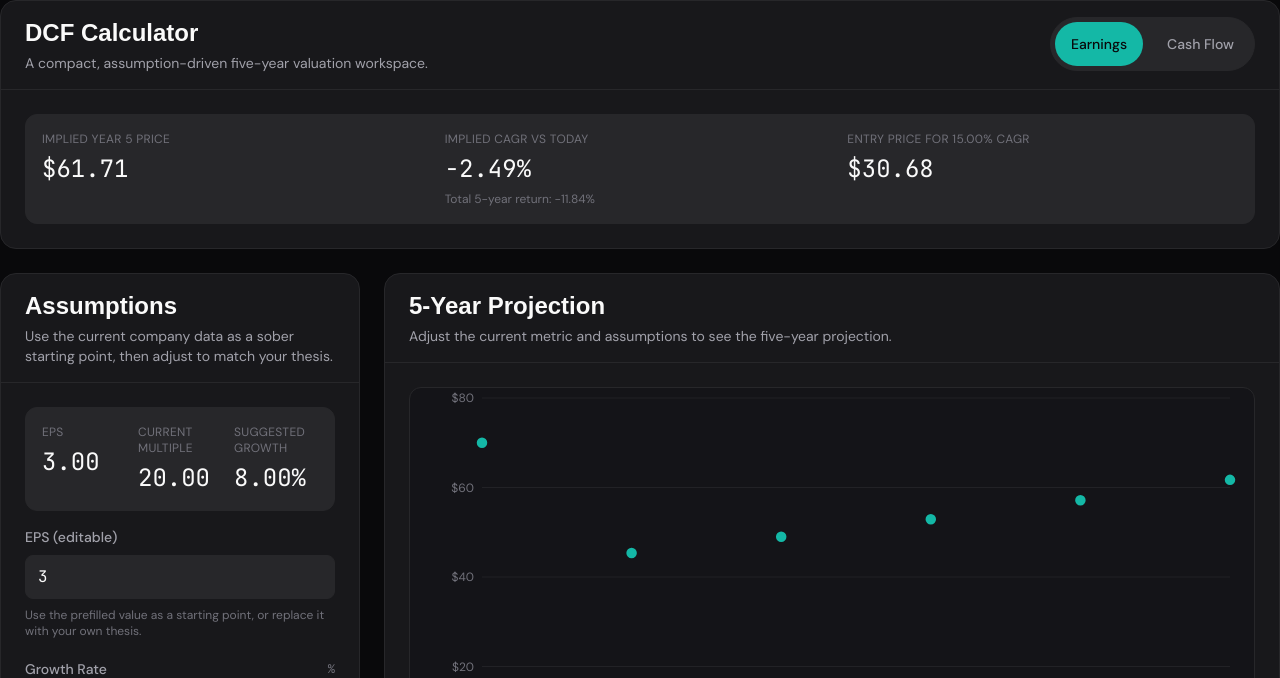
ValuationTab › shows the financial-sector caution only in cash-flow mode
expect the text "financial companies fit a simplified cash-flow dcf less cleanly" is not shown: met
expect the heading "Assumptions" is shown: met, box [25, 292, 177, 319]
Click the button "Cash Flow" at x=1201, y=44, box [1151, 22, 1250, 66]
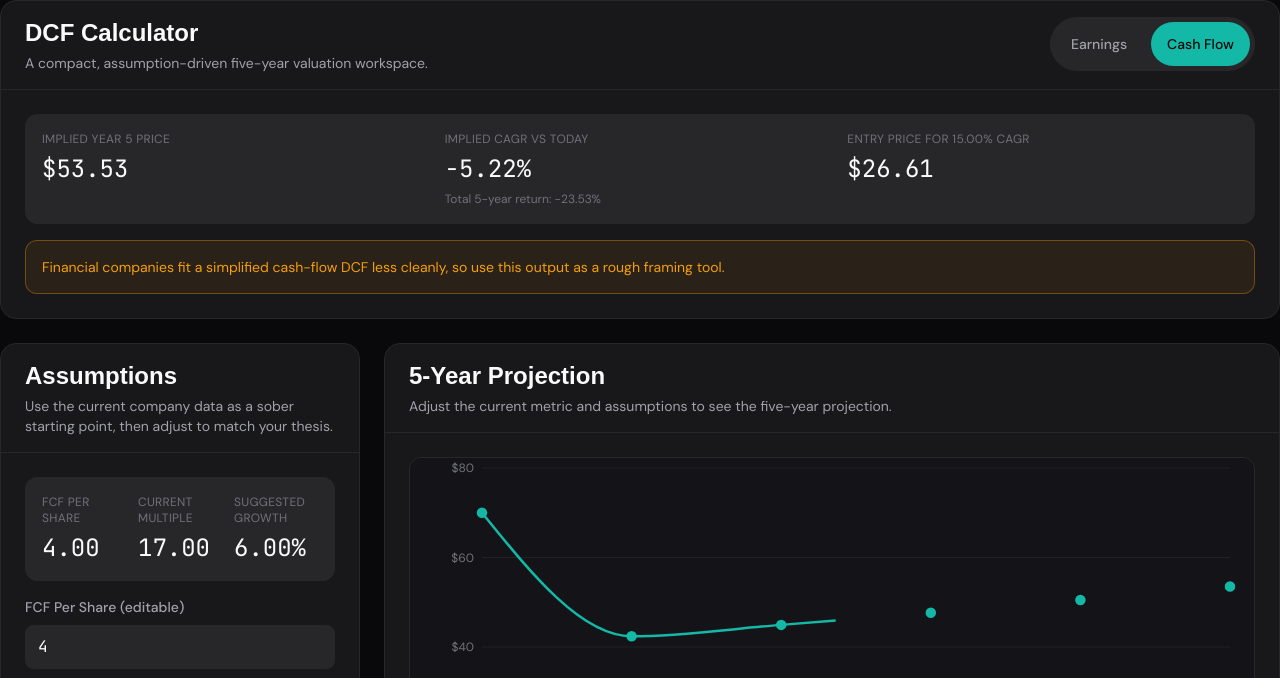
expect the text "Financial companies fit a simplified cash-flow DCF less cleanly" is shown: met, box [42, 258, 724, 276]
